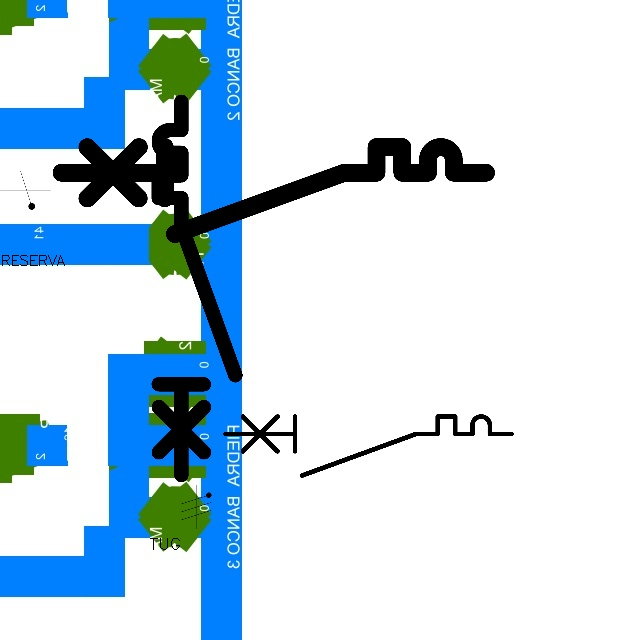interruptor_termomagnetico: (50, 136, 497, 245), (149, 92, 245, 484), (218, 409, 519, 482)
